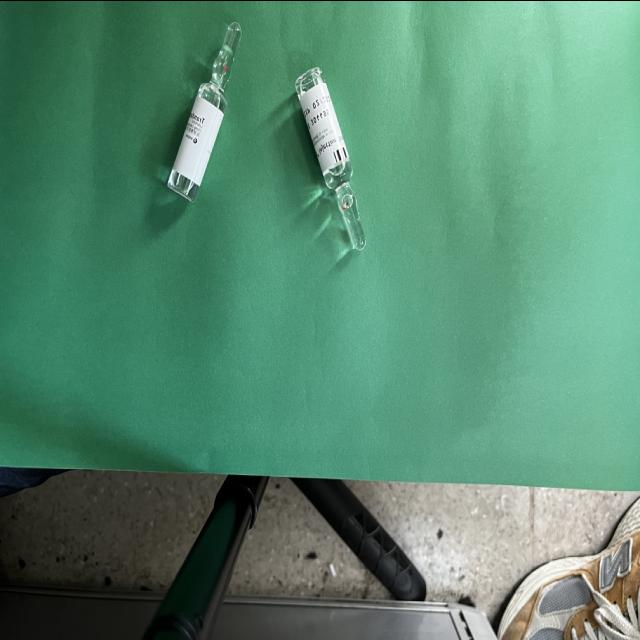Ampoules: (166, 22, 242, 201), (295, 67, 366, 250)
